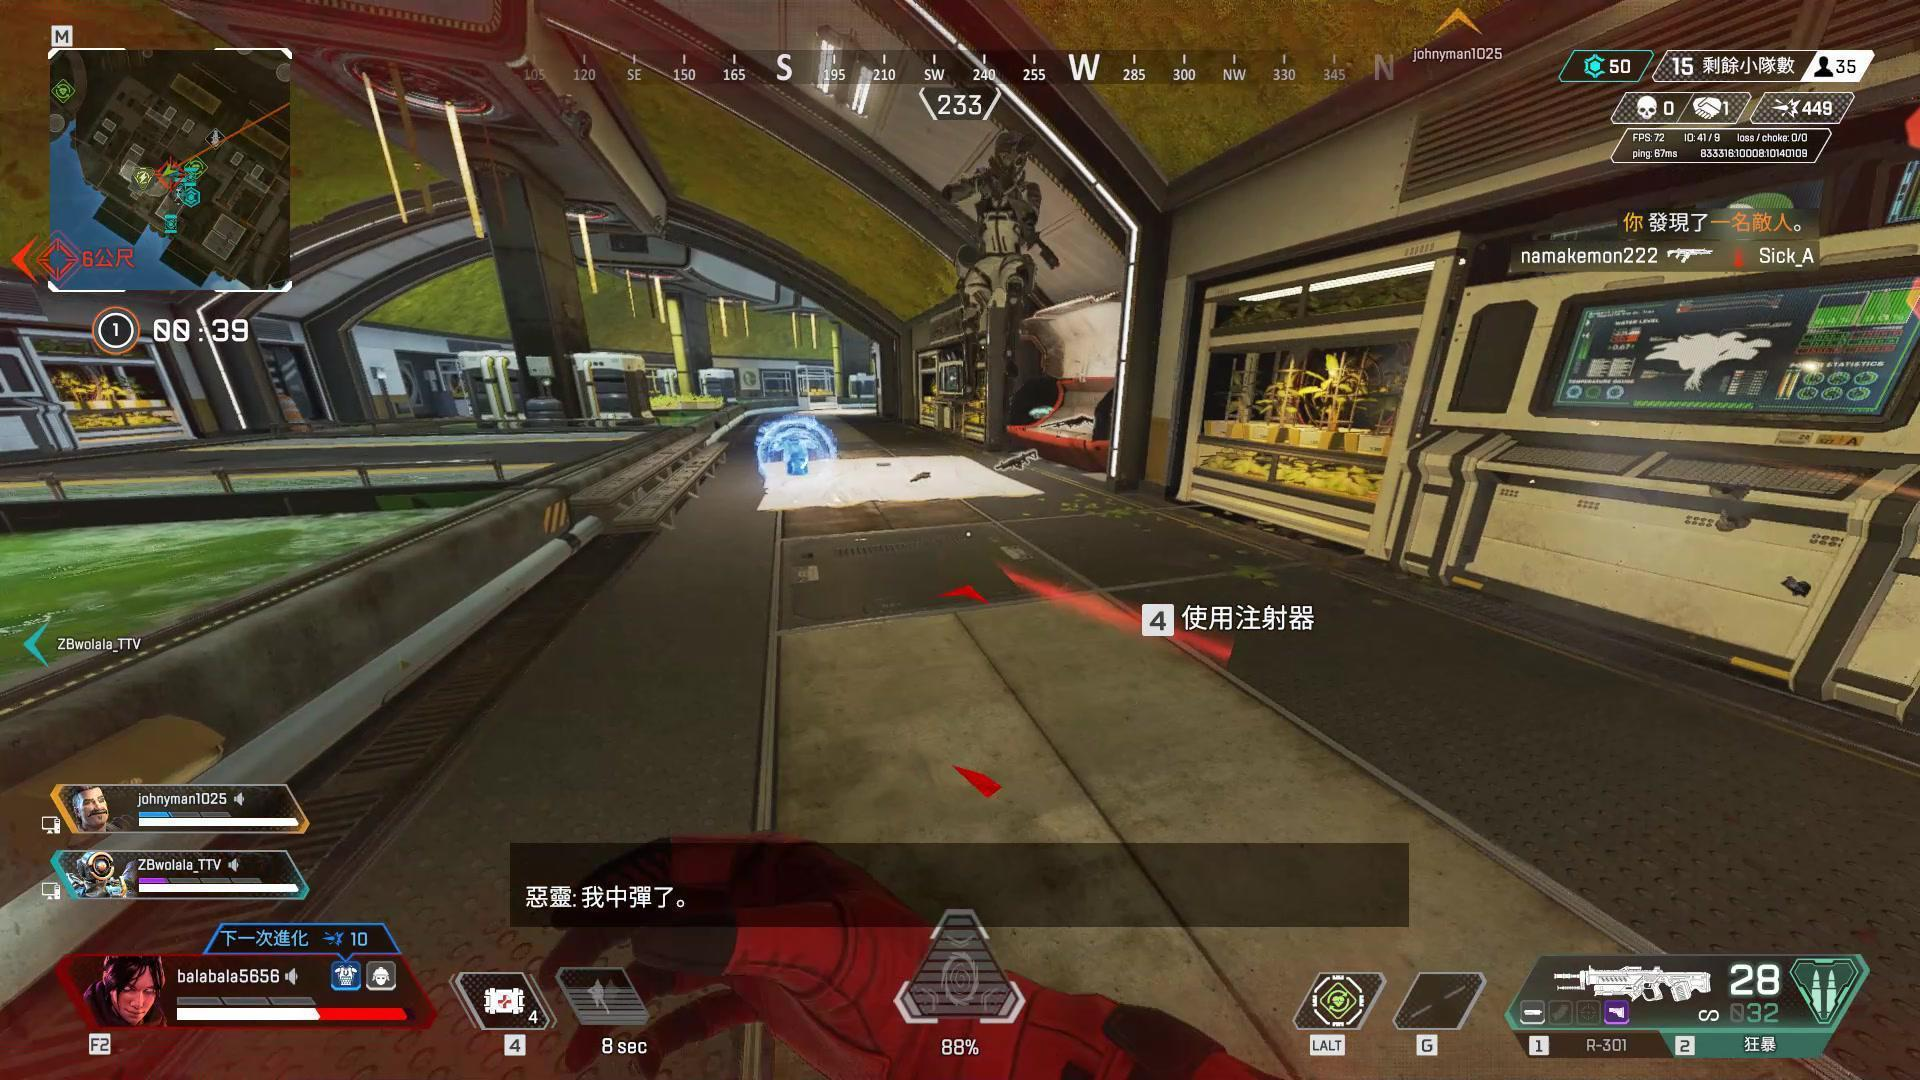avatar: (938, 128, 1062, 404)
